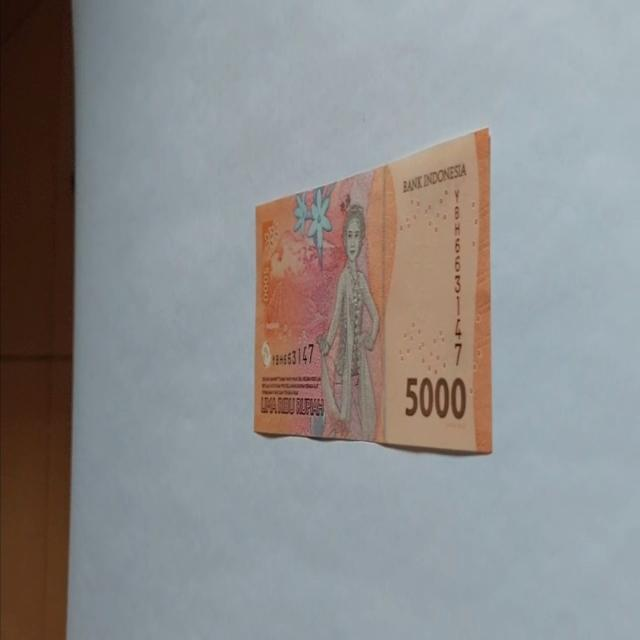lima ribu rupiah: (252, 125, 492, 455), (316, 203, 380, 441)
